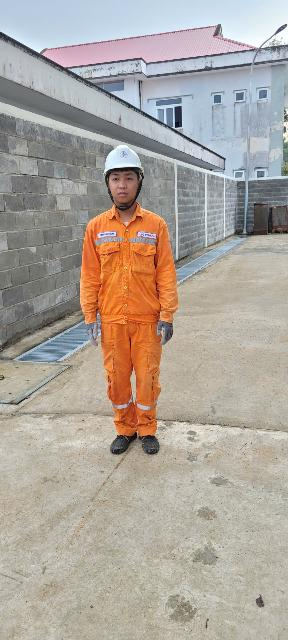gloves: (149, 313, 182, 344), (80, 317, 106, 349)
helmet: (85, 143, 158, 176)
shoes: (111, 422, 136, 462), (139, 433, 169, 461)
